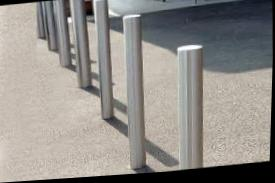Animal: (117, 13, 154, 172), (170, 43, 211, 170), (89, 0, 120, 125), (69, 0, 96, 91)
